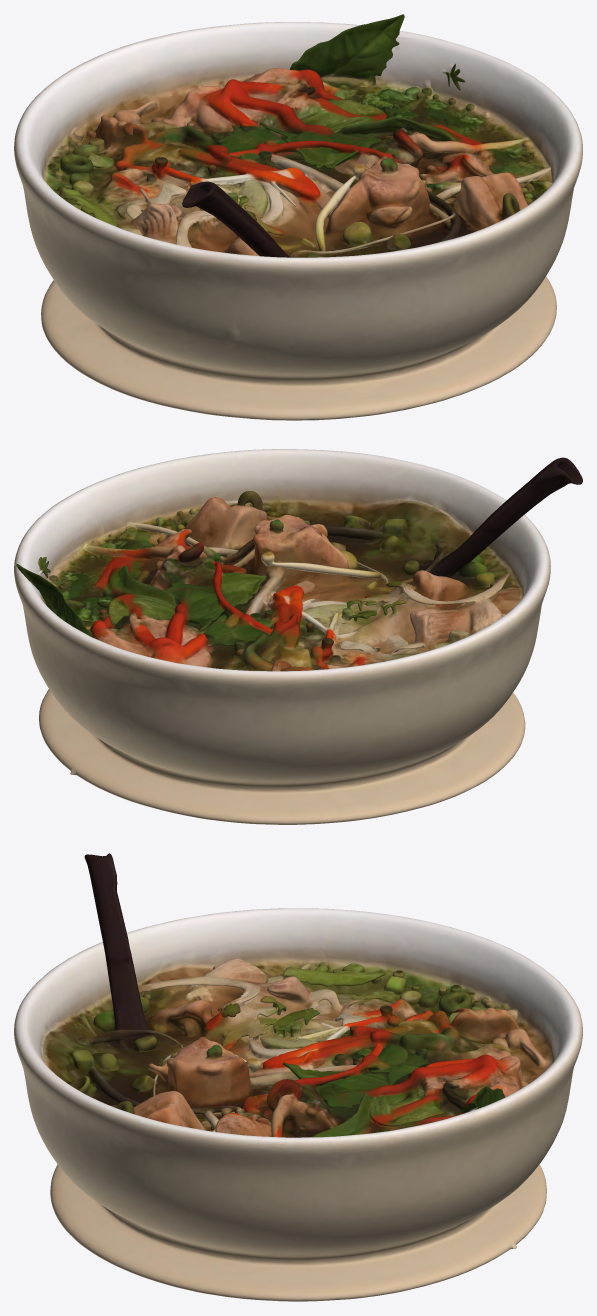
The model's file is pho.glb.
3 views of the same model, one above another, from view 1: azimuth 30°, elevation 25°; view 2: azimuth 150°, elevation 25°; view 3: azimuth 270°, elevation 25° (orthographic). The views are drawn at different scales.
Parts seen in each view (by area): view 1: tripo_node_9c927a7b-21b5-4fe0-a9d0-4bf03eba7b39; view 2: tripo_node_9c927a7b-21b5-4fe0-a9d0-4bf03eba7b39; view 3: tripo_node_9c927a7b-21b5-4fe0-a9d0-4bf03eba7b39.
Part boxes in pixels (x1,y1,x2,y2): tripo_node_9c927a7b-21b5-4fe0-a9d0-4bf03eba7b39: (14, 14, 582, 420); tripo_node_9c927a7b-21b5-4fe0-a9d0-4bf03eba7b39: (14, 449, 582, 824); tripo_node_9c927a7b-21b5-4fe0-a9d0-4bf03eba7b39: (14, 853, 582, 1301).
Size of the model in its own units: 0.9623 by 0.4719 by 0.9797.
1 material, 1 textured.
